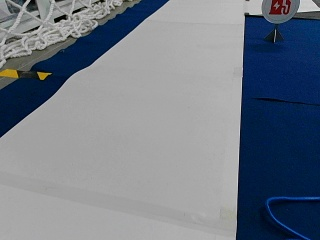battery: (261, 0, 301, 24)
